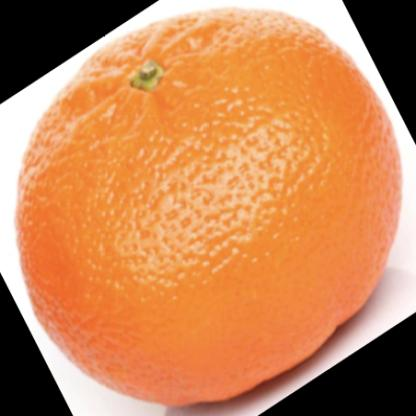fresh: (14, 10, 404, 406)
